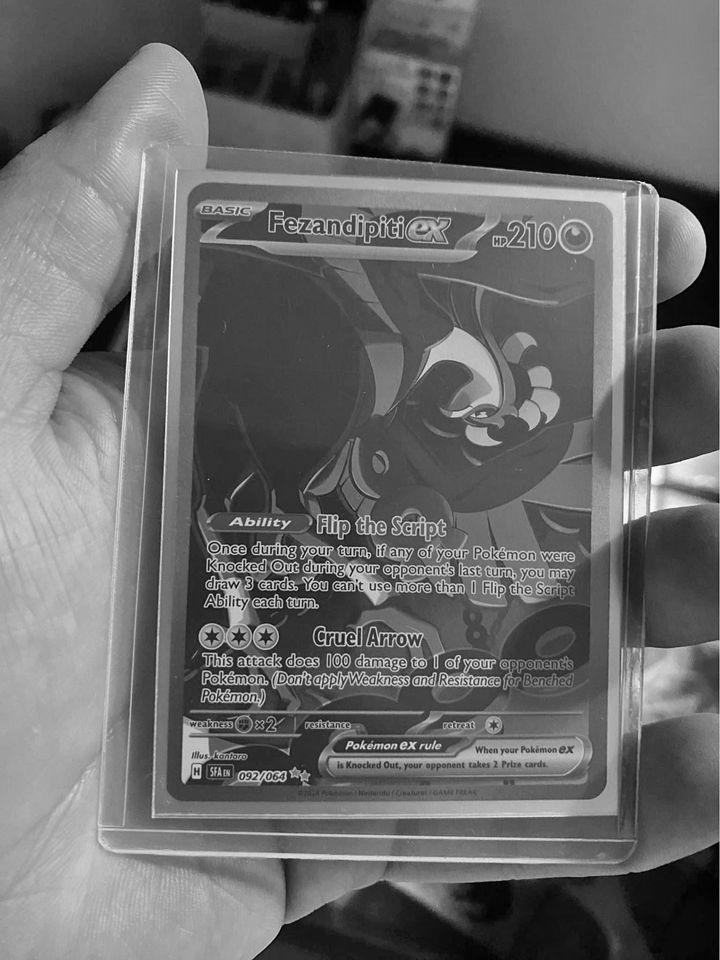card: (164, 180, 615, 804)
